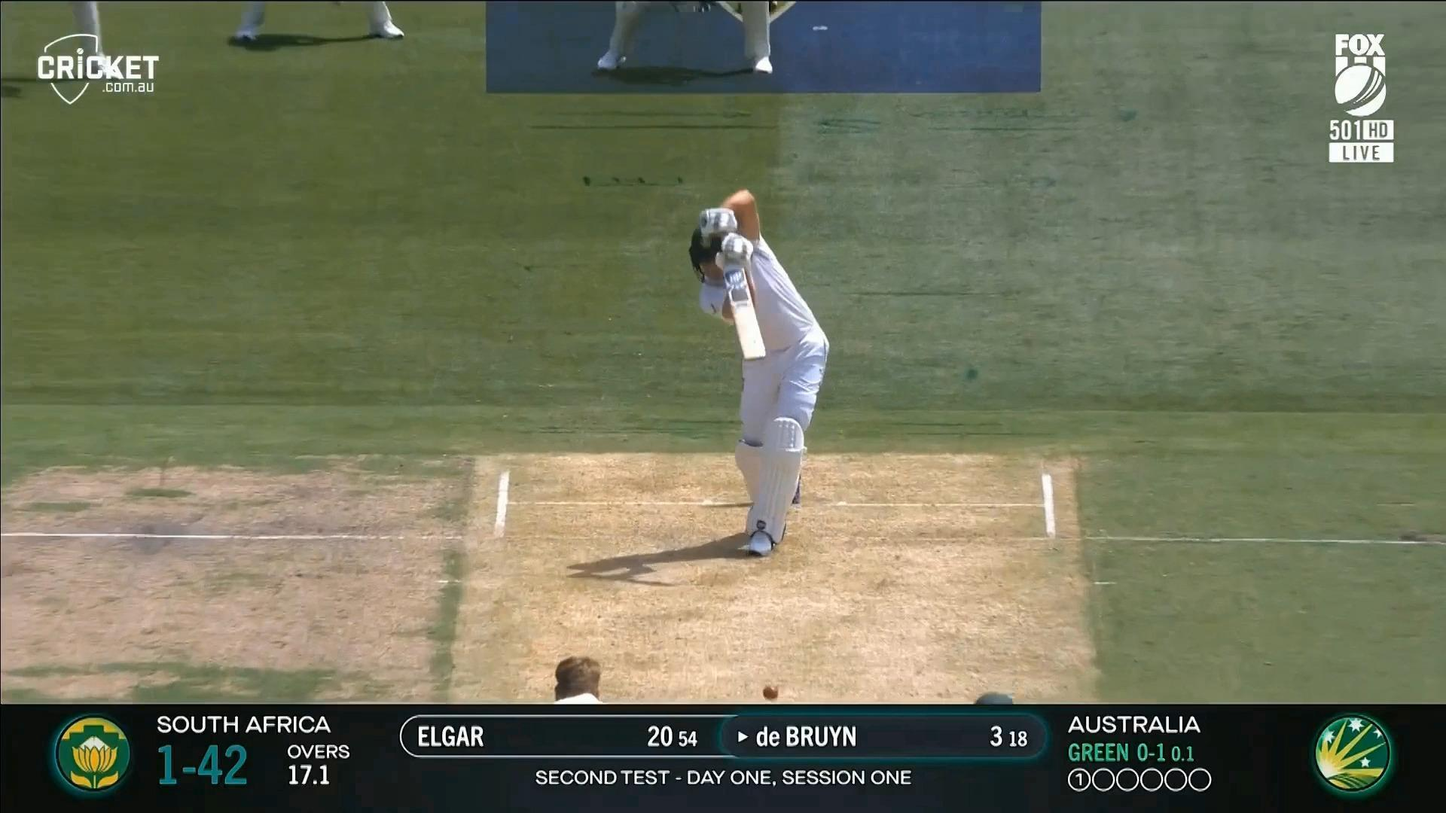BM 1: (689, 190, 830, 557)
BO: (518, 653, 681, 813)
